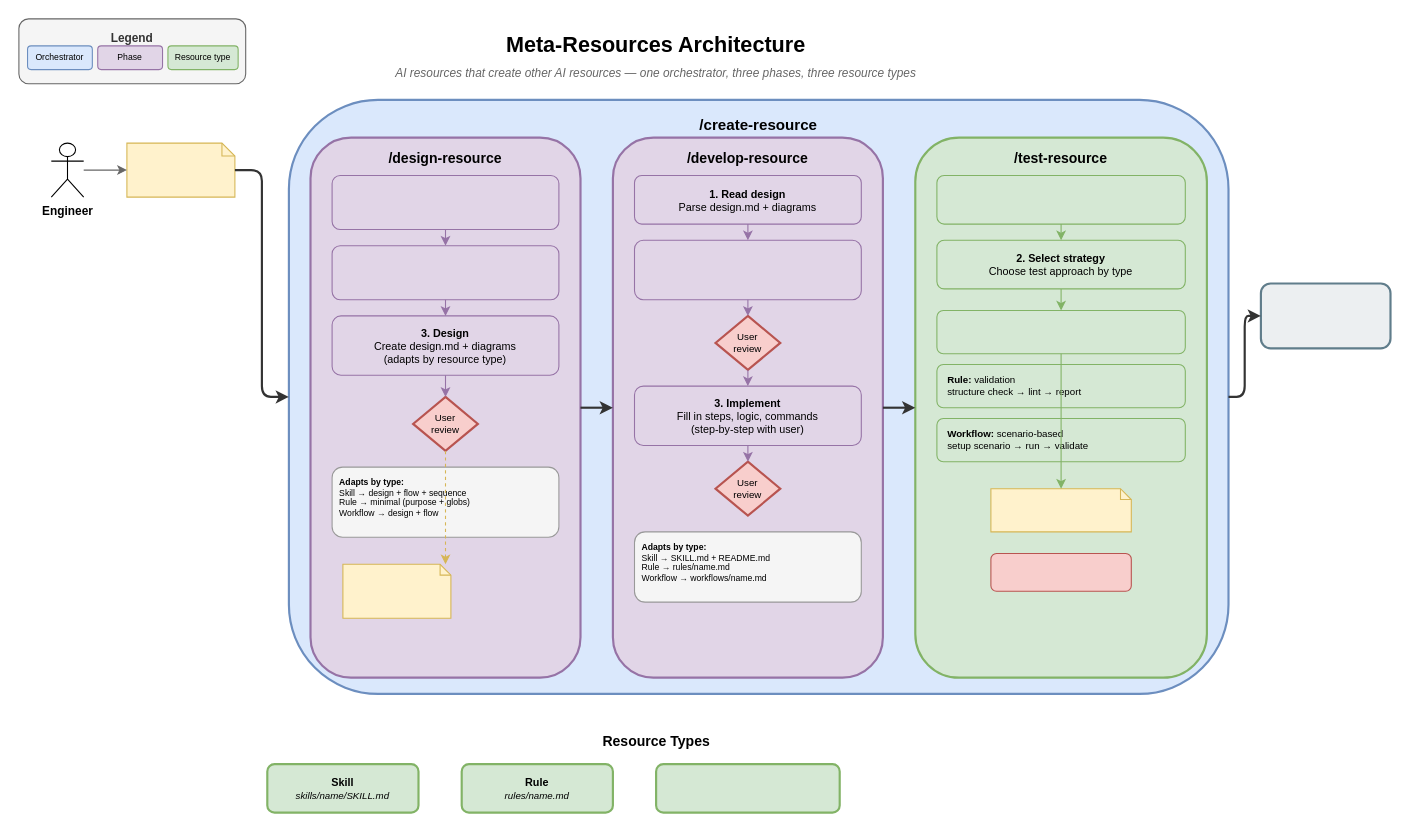
Image size: 1410x833. Some labels were removed from this diagram. Each missing label, with the centre of its shape:
"1. Detect type Read frontmatter / file location" belongs at (1060,199).
"1. Understand Ask clarifying questions (5-10 questions)" belongs at (445,202).
"2. Classify Determine resource type, complexity, name" belongs at (445,272).
"2. Scaffold Create resource files (frontmatter + structure, no impl)" belongs at (747,269).
"docs/<name>/ design.md *.drawio + .png" belongs at (396,590).
"IDEA text / .md file" belongs at (180,169).
"Iterate Fix → re-test" belongs at (1060,571).
"RELEASE version bump CHANGELOG + tag" belongs at (1325,315).
"Skill: specimen-based merge → setup → run → report" belongs at (1060,331).
"Test Report pass / fail + details" belongs at (1060,510).
"Workflow workflows/name.md" belongs at (747,787).
